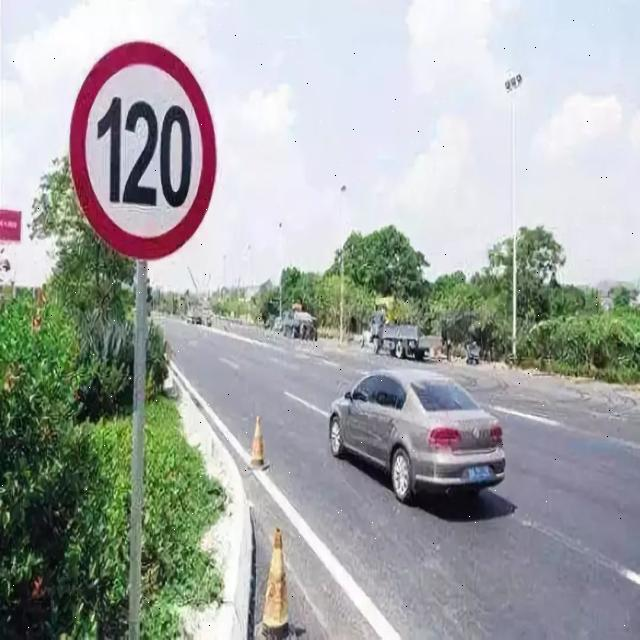speed limit 120: (70, 42, 217, 261)
